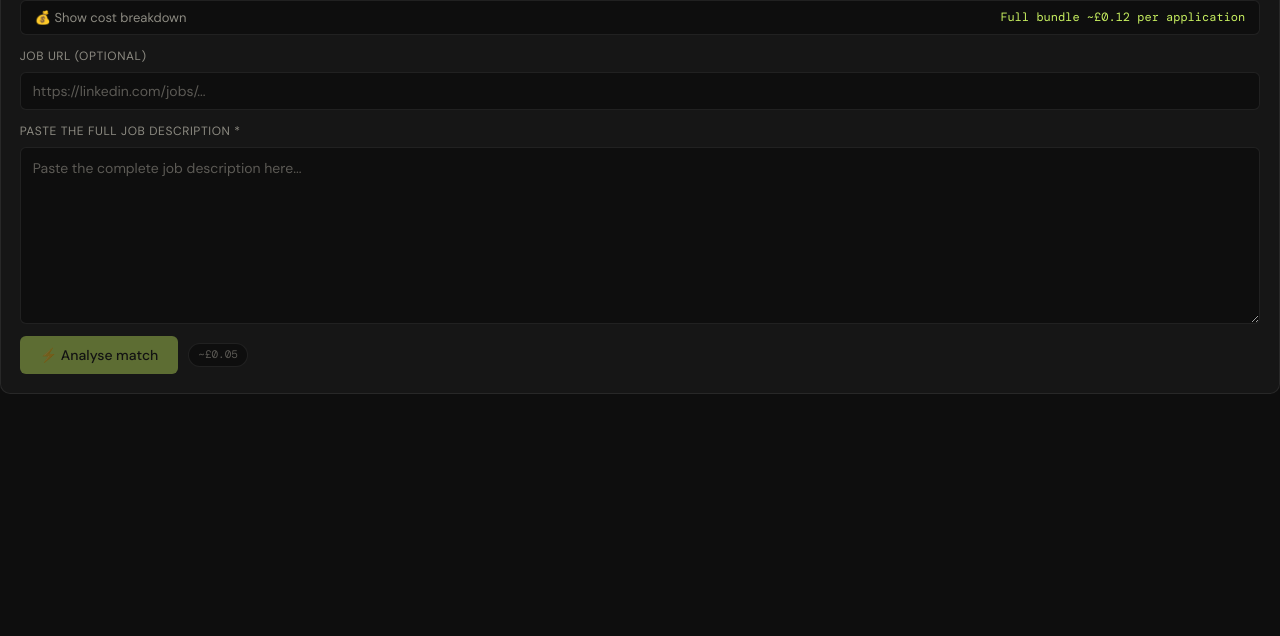
Test: AIPanel › cover letter and CV › generates an adapted CV after analysing a job
The width and height of the screenshot is (1280, 636).
Type "React frontend developer" into the text box with placeholder "Paste the complete job description here..." at [640, 235], box [20,147,1260,324]
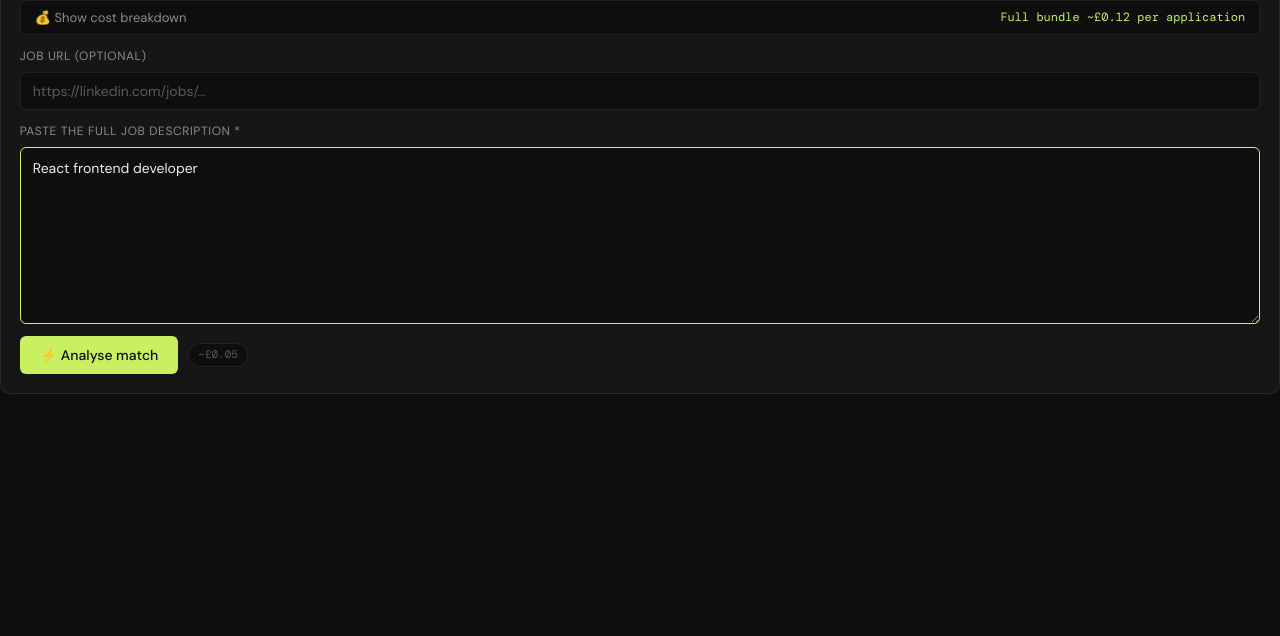
Click the button "⚡ Analyse match" at [99, 355], box [20,336,178,374]
(page scrolled)
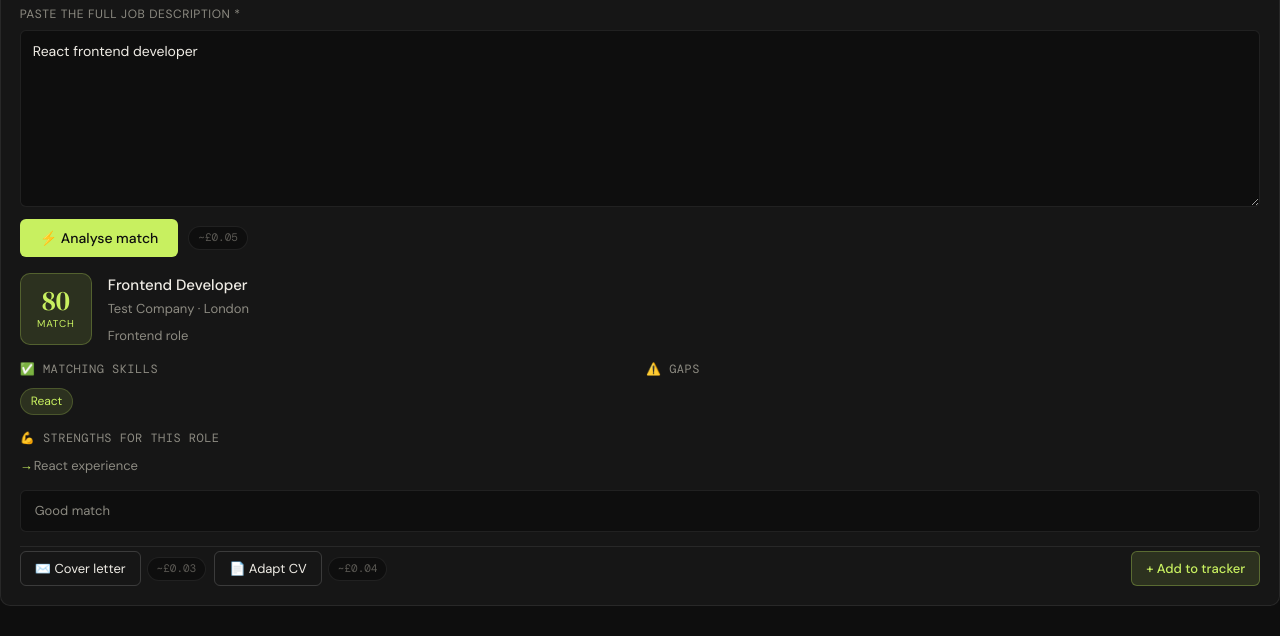
Expected: the text "Frontend Developer" is shown, [108,275,248,295]
Click the button "📄 Adapt CV" at [268, 569], box [214,551,322,586]
(page scrolled)
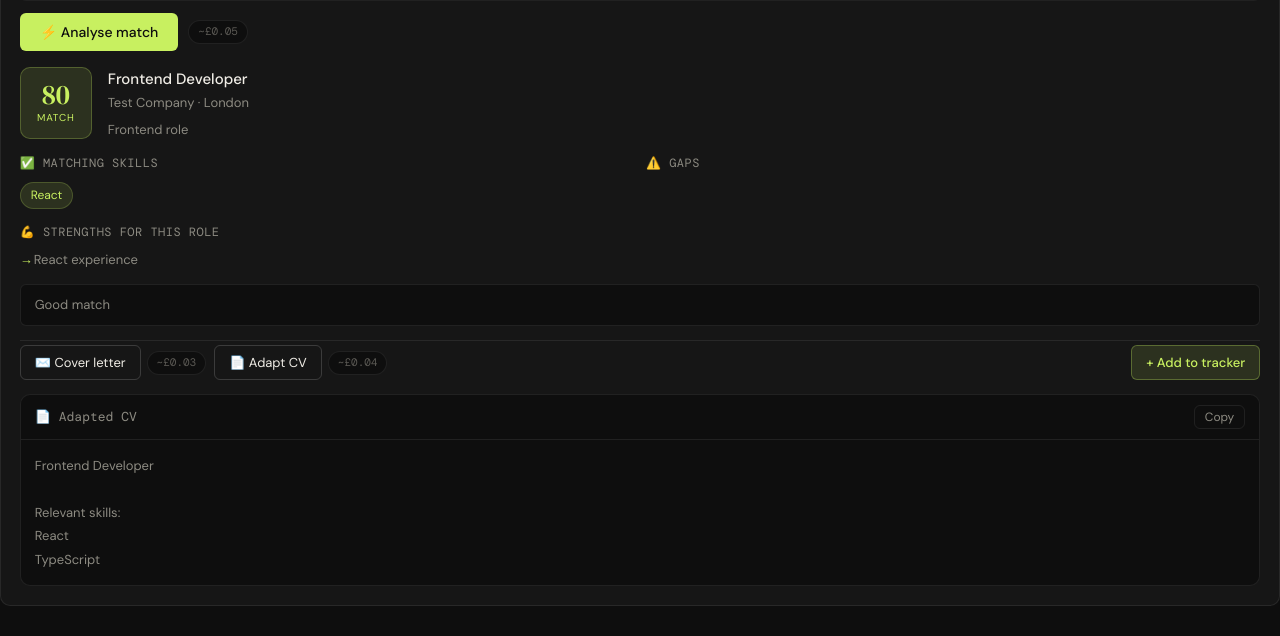
Expected: the text "Frontend Developer Relevant skills: React TypeScript" is shown, [35,457,154,568]
